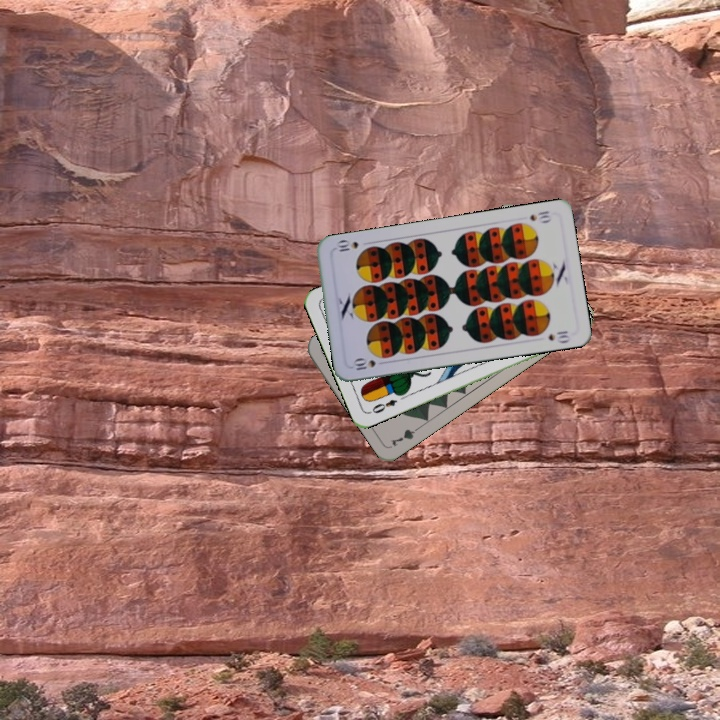EO: (365, 395, 400, 416)
G7: (386, 421, 424, 449)
S10: (349, 355, 378, 373), (526, 206, 553, 225)
